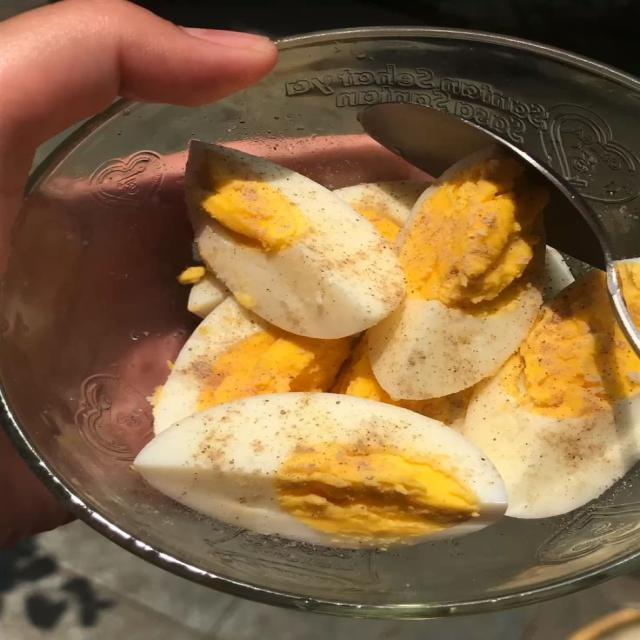egg boiled: (134, 393, 506, 547), (368, 149, 546, 399), (463, 270, 639, 518), (186, 141, 404, 338), (153, 297, 350, 433), (332, 334, 473, 430), (334, 181, 426, 243), (188, 273, 228, 318)
